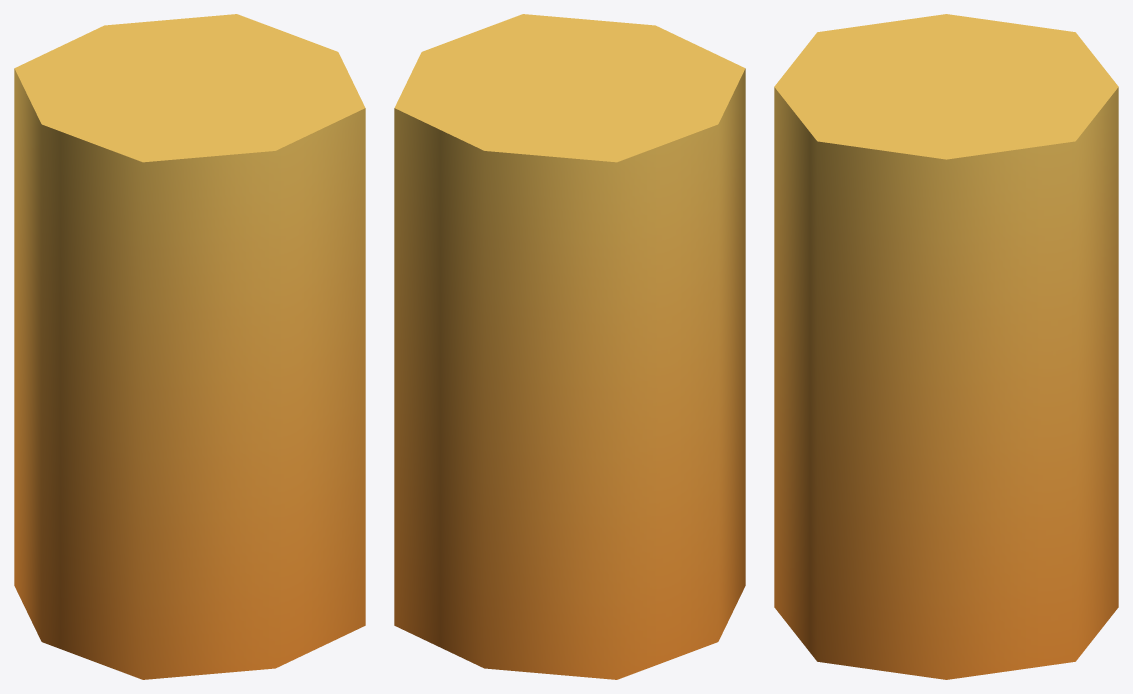
File: bullet-foam-thick.glb
3 views of the same model, side by side, from view 1: azimuth 30°, elevation 25°; view 2: azimuth 150°, elevation 25°; view 3: azimuth 270°, elevation 25° (orthographic).
Visible parts, largest first — view 1: bullet-foam-thick; view 2: bullet-foam-thick; view 3: bullet-foam-thick.
Boxes of the visible parts, box(x1,y1,x2,y2) form: bullet-foam-thick: box(14, 14, 365, 679); bullet-foam-thick: box(394, 14, 745, 679); bullet-foam-thick: box(774, 14, 1118, 679).
Size of the model in its own units: 0.03 by 0.05 by 0.03.
1 material, 1 textured.
